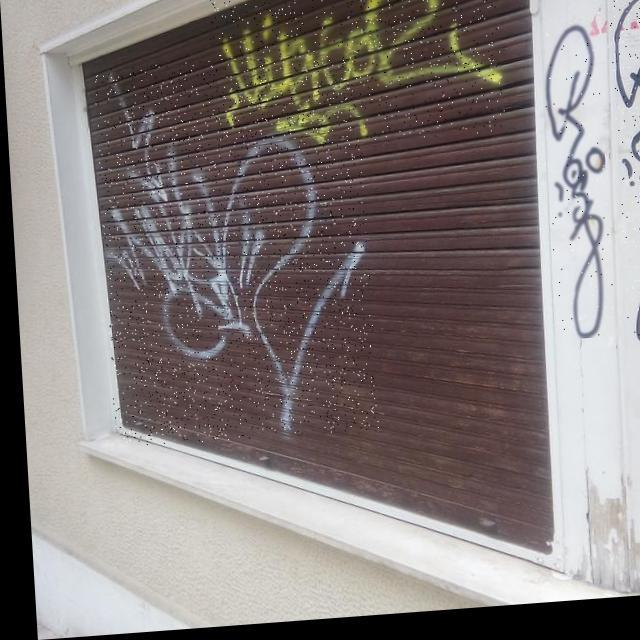-: (92, 56, 374, 450), (207, 0, 503, 156), (539, 32, 611, 348), (608, 0, 640, 351)
